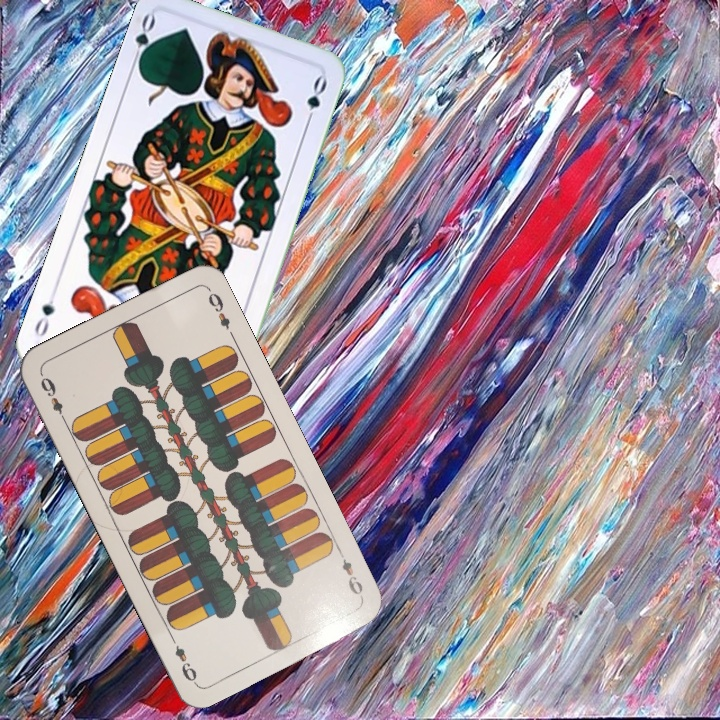E9: (36, 370, 69, 425), (334, 546, 366, 602)
GO: (127, 10, 160, 71)
